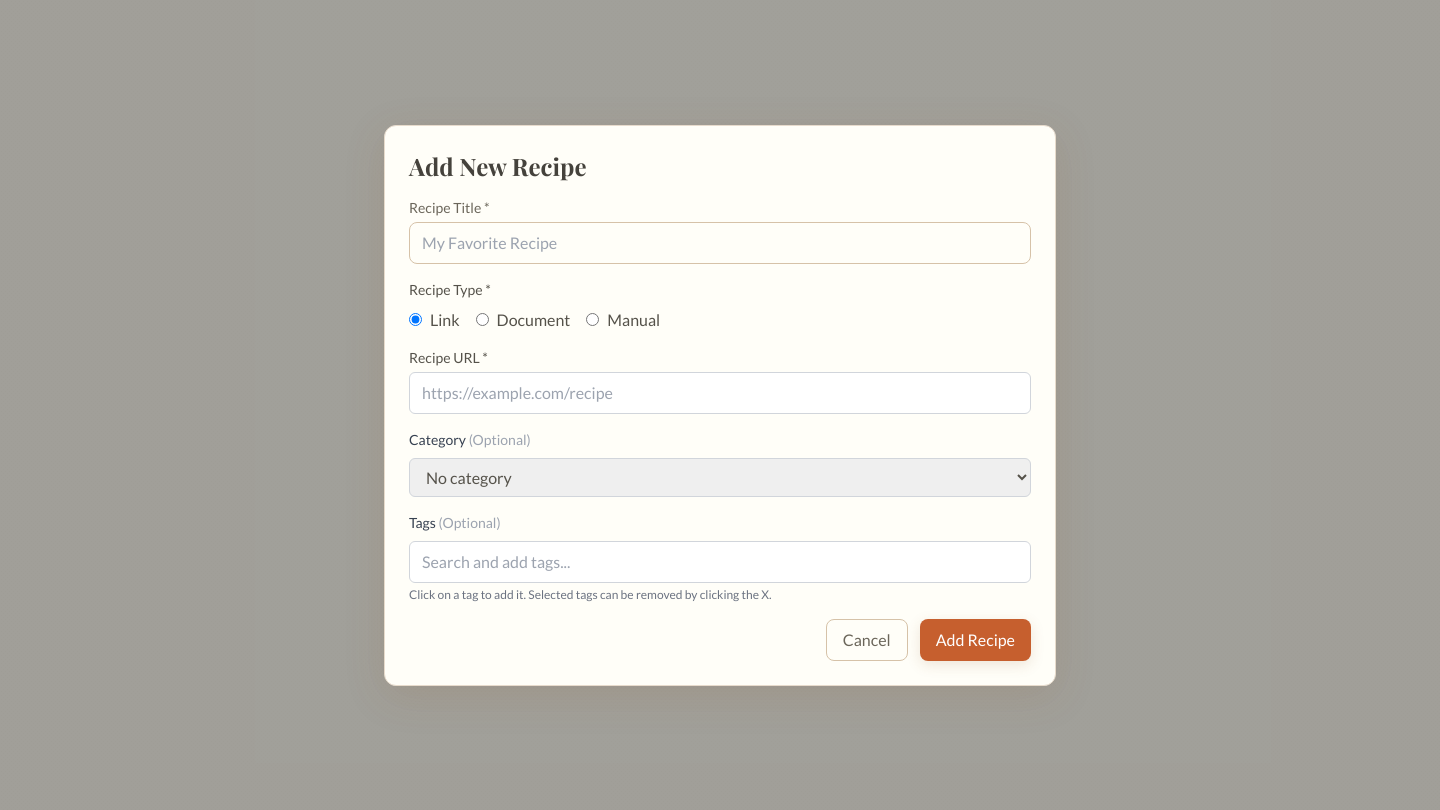
Test: RecipeForm › should show error when title is empty on submit
What coordinates should you click on to do the following:
click the button "Add Recipe"
I would click on:
 (975, 640)
Its box is x1=920 y1=618 x2=1031 y2=660.
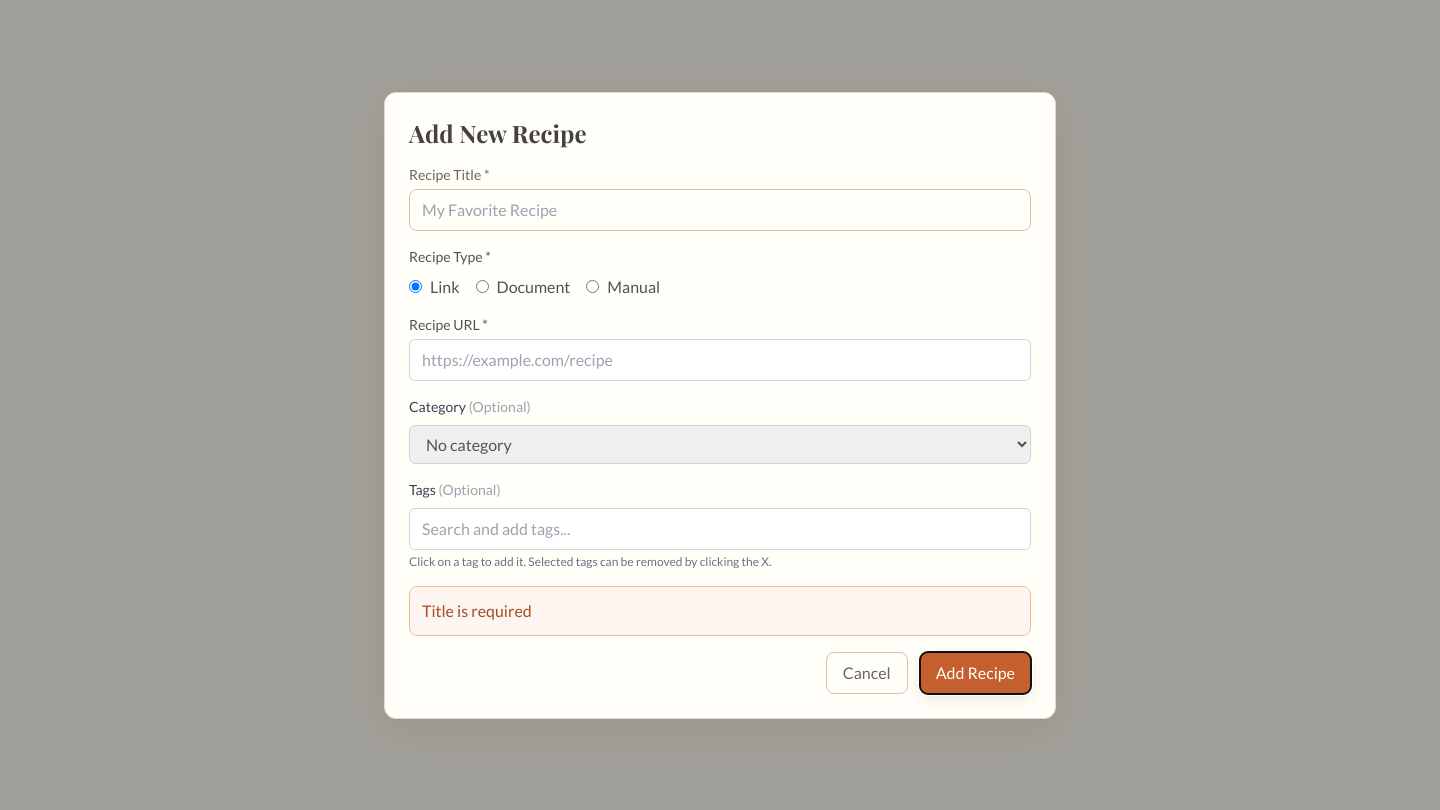
Result: the text "Title is required" is shown at x1=409 y1=586 x2=1031 y2=636
